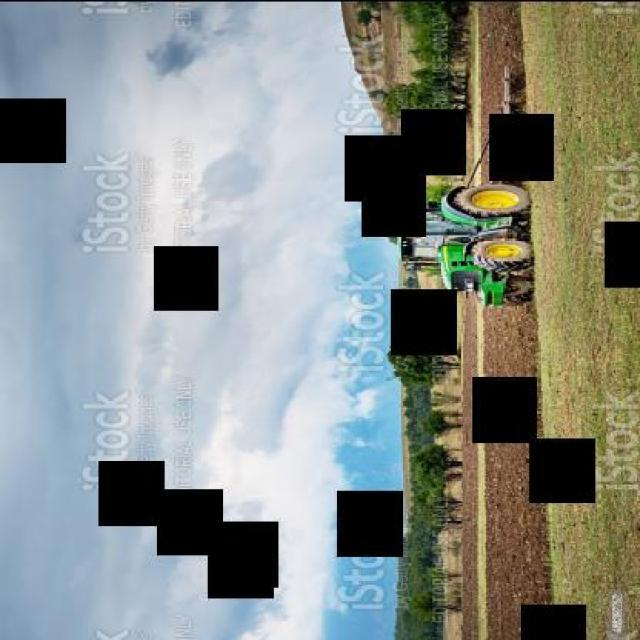Tratores - v5 YOLO V8L 2024-11-13: (362, 60, 570, 328)
